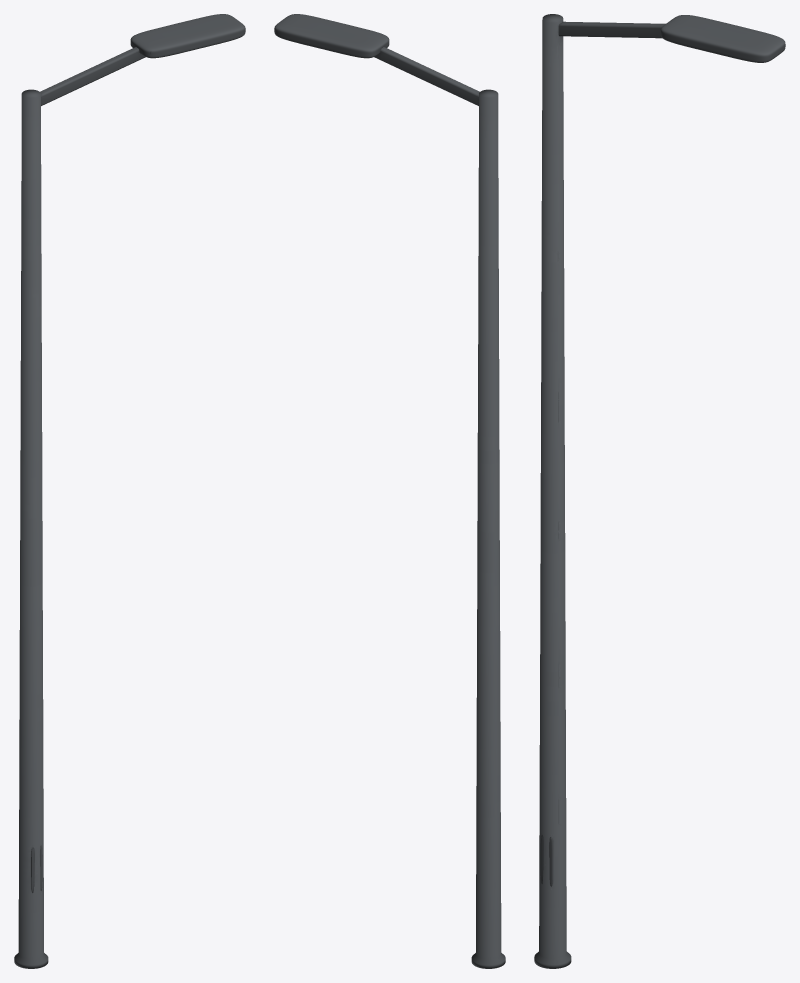
The model's file is modern-led.glb.
The picture shows the model from 3 angles, left to right: view 1: azimuth 30°, elevation 25°; view 2: azimuth 150°, elevation 25°; view 3: azimuth 330°, elevation 25°; orthographic projection. The views are drawn at different scales.
Parts seen in each view (by area): view 1: paint_primary; view 2: paint_primary; view 3: paint_primary.
Part boxes in pixels (box(x1,y1,x2,y2)): paint_primary: box(14, 14, 245, 968); paint_primary: box(274, 14, 505, 968); paint_primary: box(534, 14, 785, 968).
Size of the model in its own units: 1.21 by 4.63 by 0.2199.
Materials: 2 (1 with a texture image).
